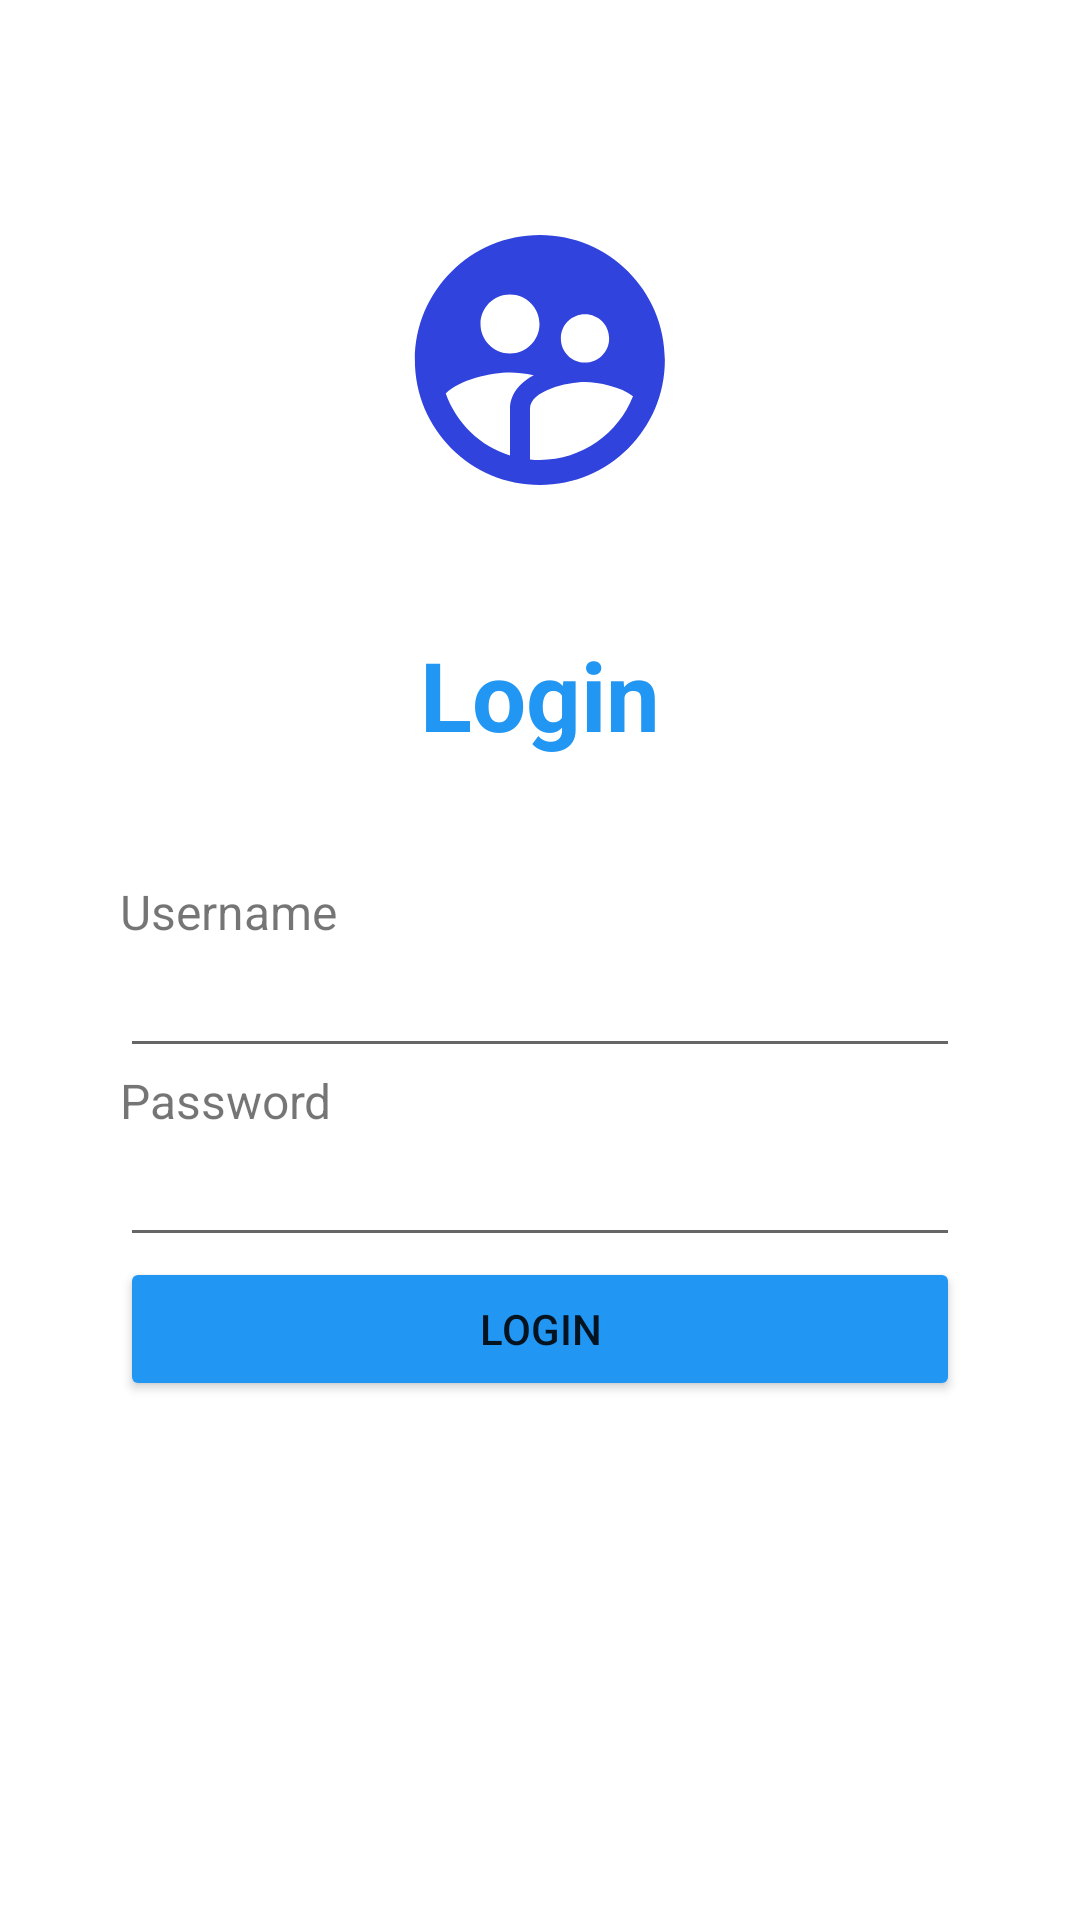

Icon bounding boxes for this 1080w x 1920h phone screenshot, format (x1, y1, x2, y2):
supervised user circle: (414, 235, 665, 485)
